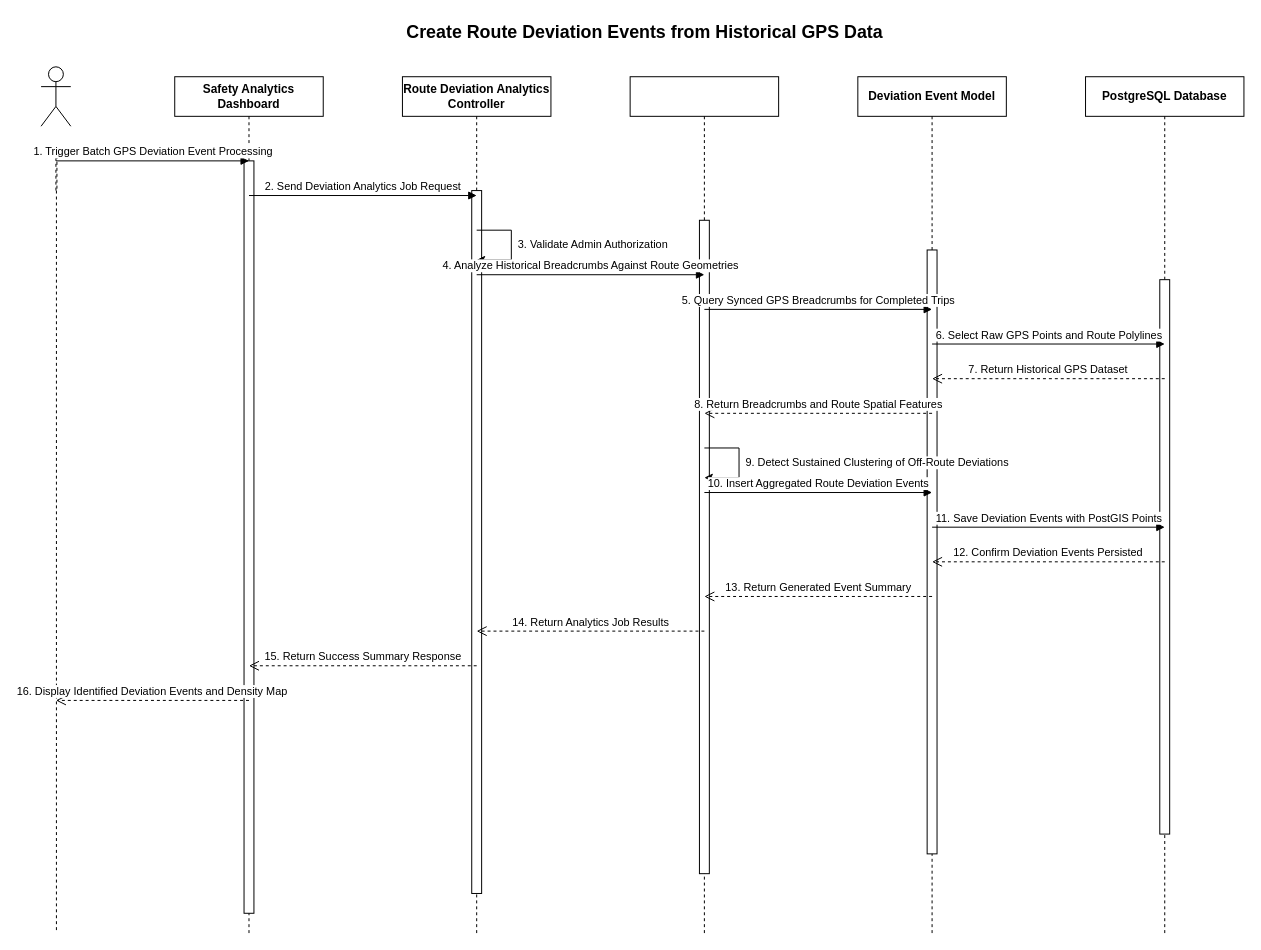
This 1261x950 diagram has some shape labels left out. Each missing label, with the centre of its shape:
"Admin" goes at point (55, 96).
"GPS Pattern Analysis Service" goes at point (704, 504).
